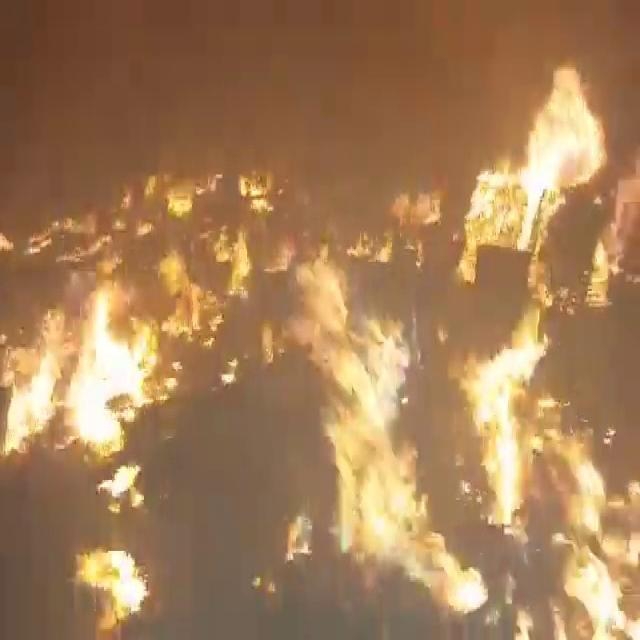Fire: (268, 247, 484, 624), (6, 162, 268, 462), (459, 331, 632, 631), (457, 47, 620, 282), (350, 191, 439, 269), (77, 547, 145, 629), (97, 465, 144, 513)
